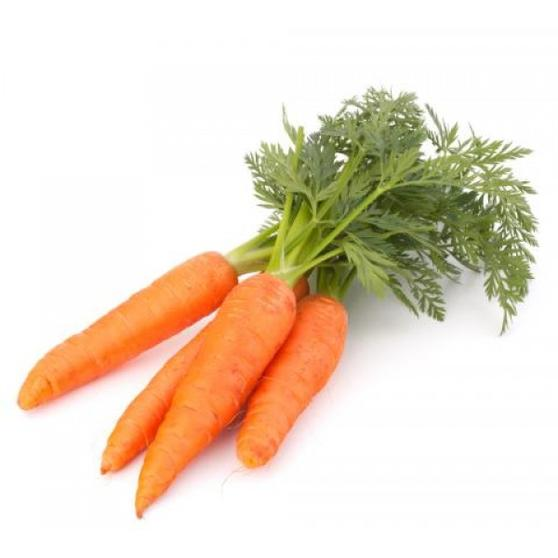carrot: (12, 249, 238, 415), (142, 275, 293, 515), (242, 285, 354, 478)
